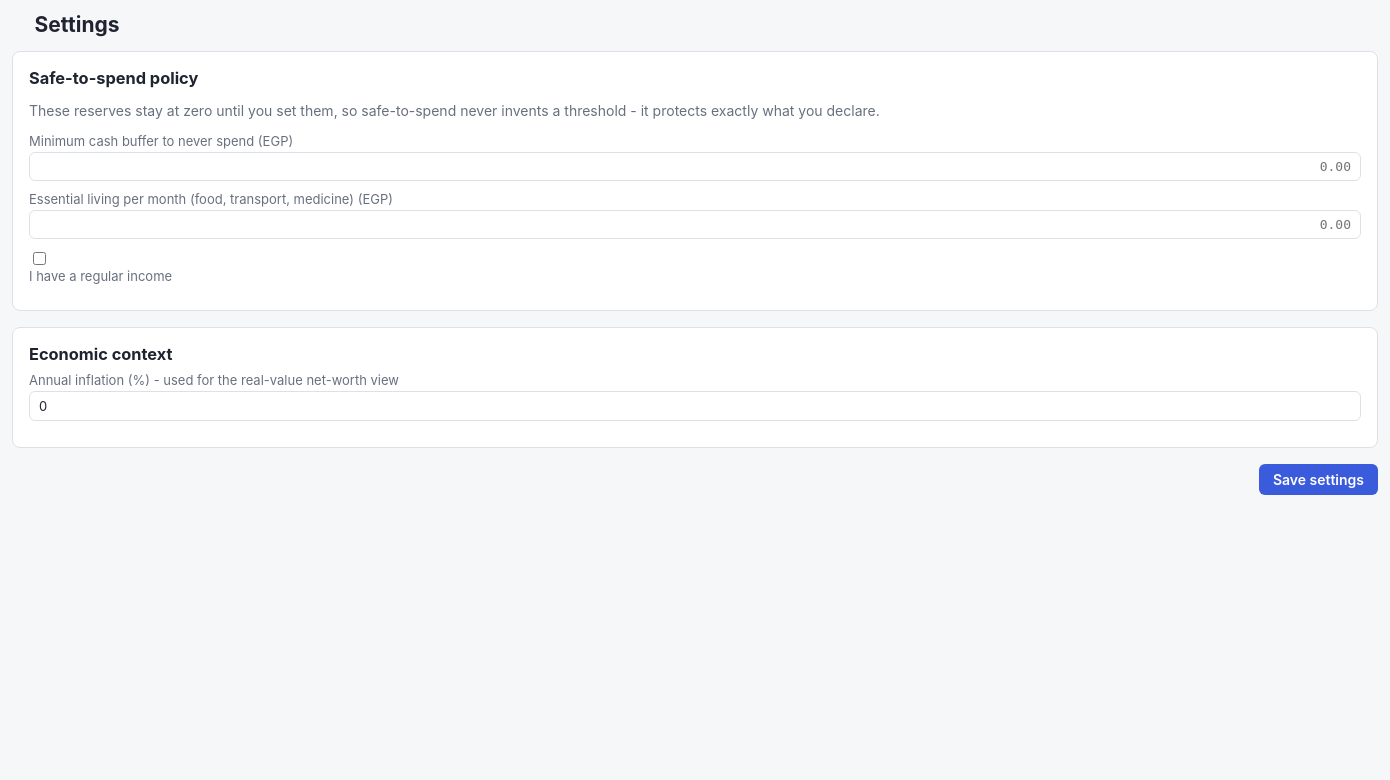
SettingsView › rejects an out-of-range income day
Click the checkbox named "has regular income". click: {"x": 40, "y": 258}
box: [33,252,46,265]
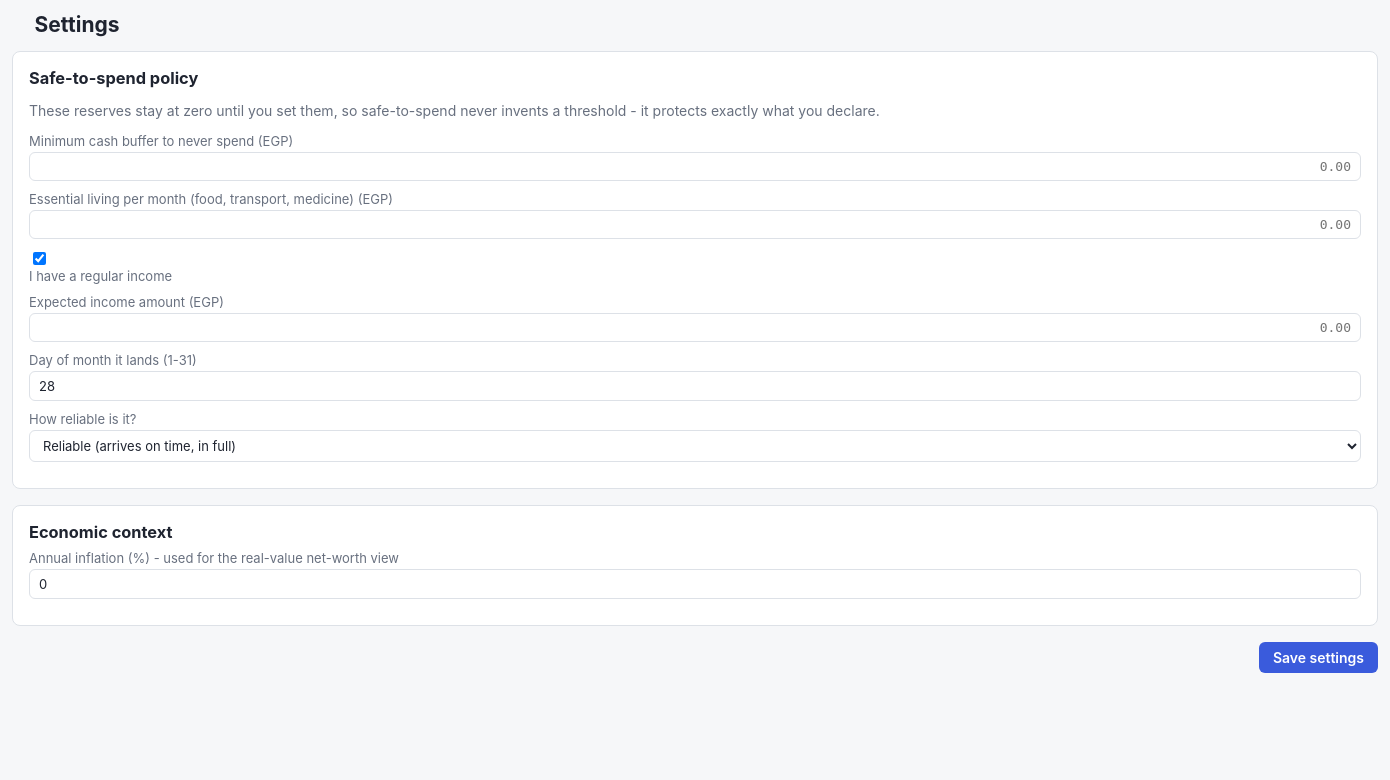
Type "25000" into the field labelled "Expected income amount (EGP)". click: {"x": 695, "y": 328}
box: [29,313,1361,342]
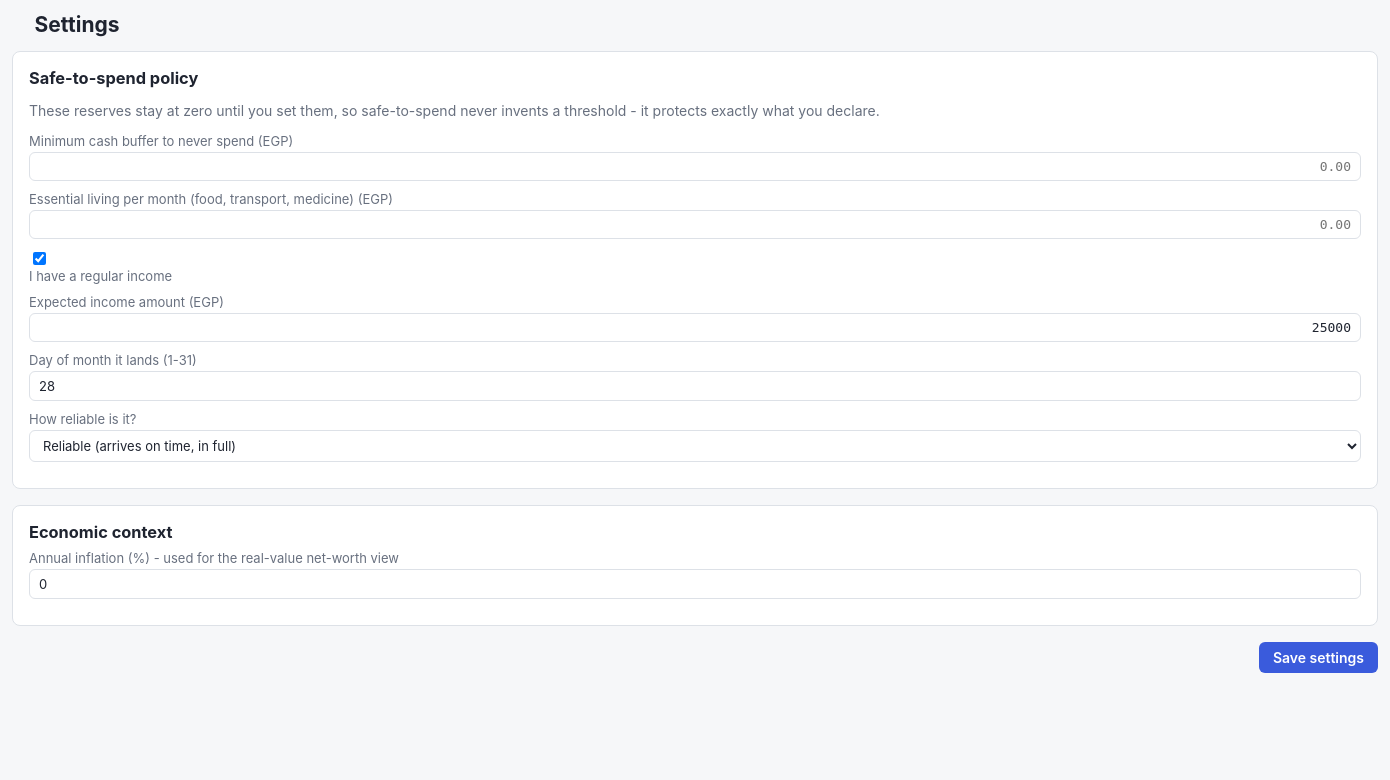
Replace the text in the number field named "income day of month" with "40". click: {"x": 695, "y": 386}
box: [29,371,1361,401]
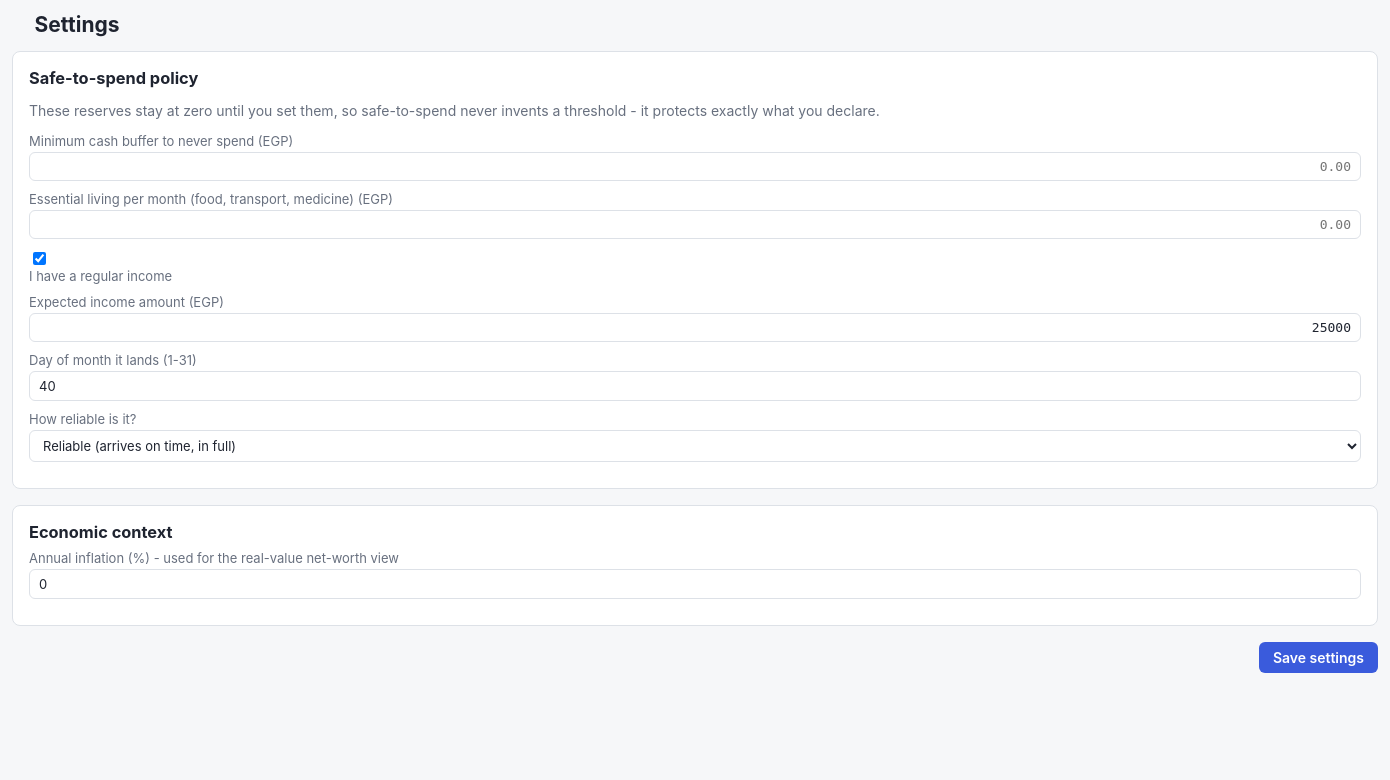
Click the button "Save settings". click: {"x": 1318, "y": 658}
box: [1259,642,1378,673]
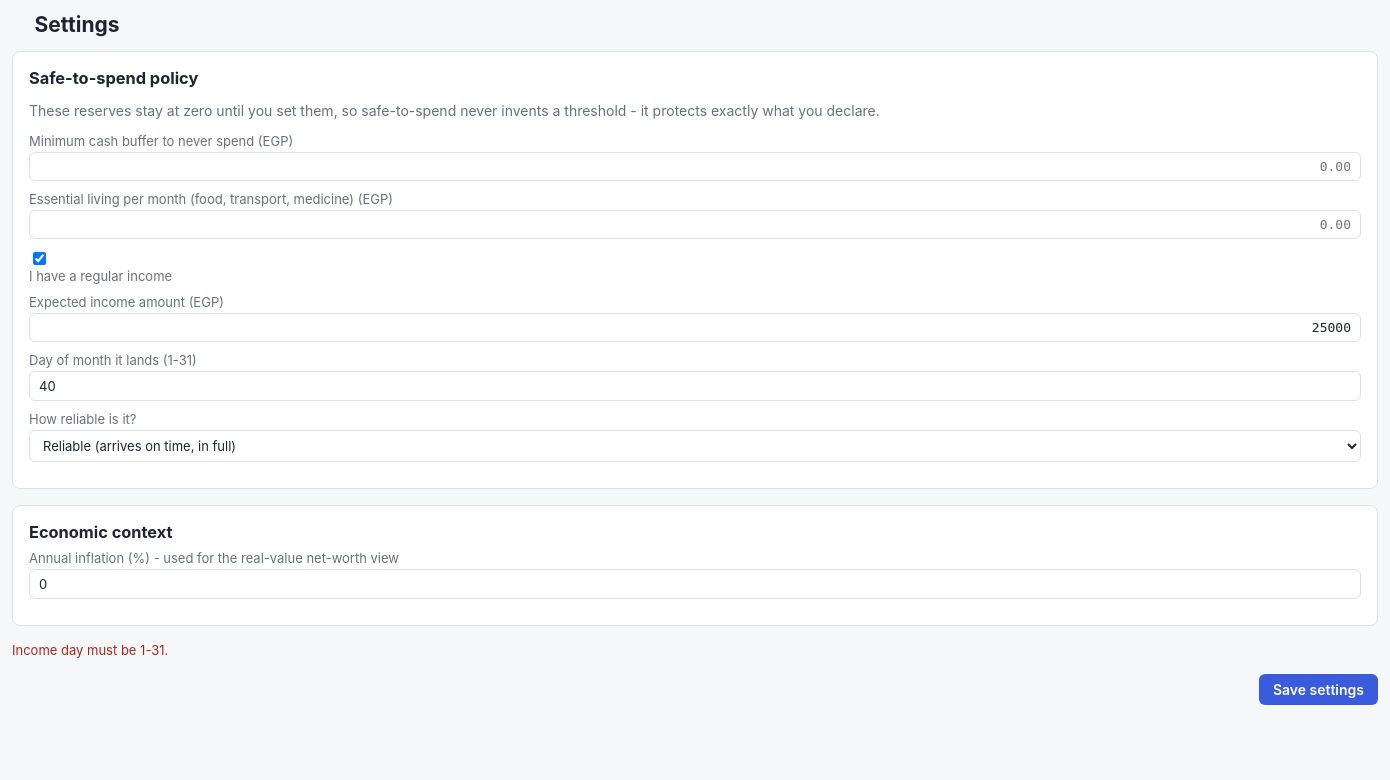
Expected: the message shows "1-31", [12,642,168,658]
